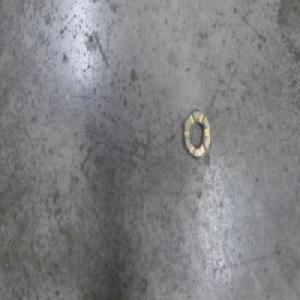Nut: (182, 107, 210, 161)
